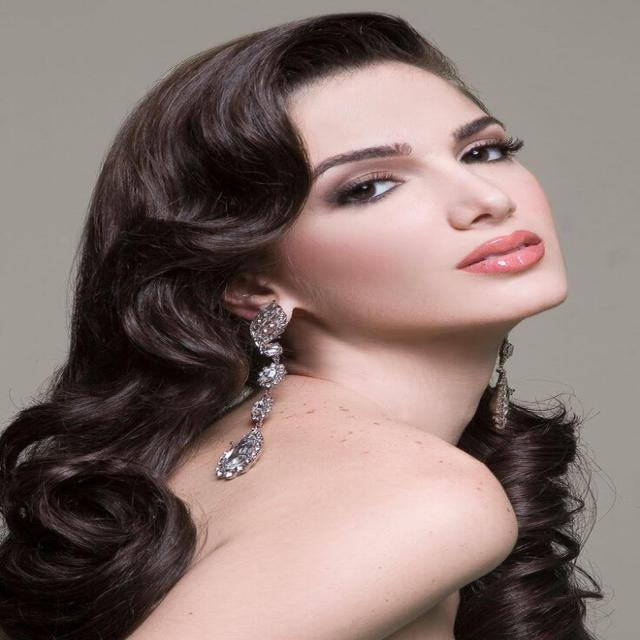Nonhelmet: (91, 12, 573, 356)
